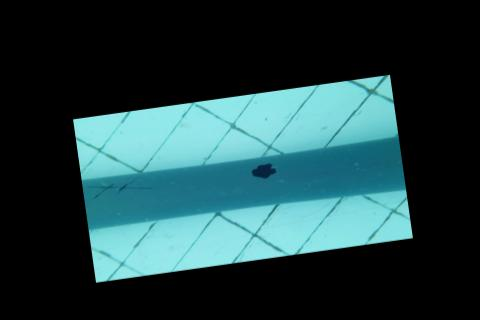kebocoran: (249, 160, 277, 179)
keretakan: (86, 174, 152, 199)
